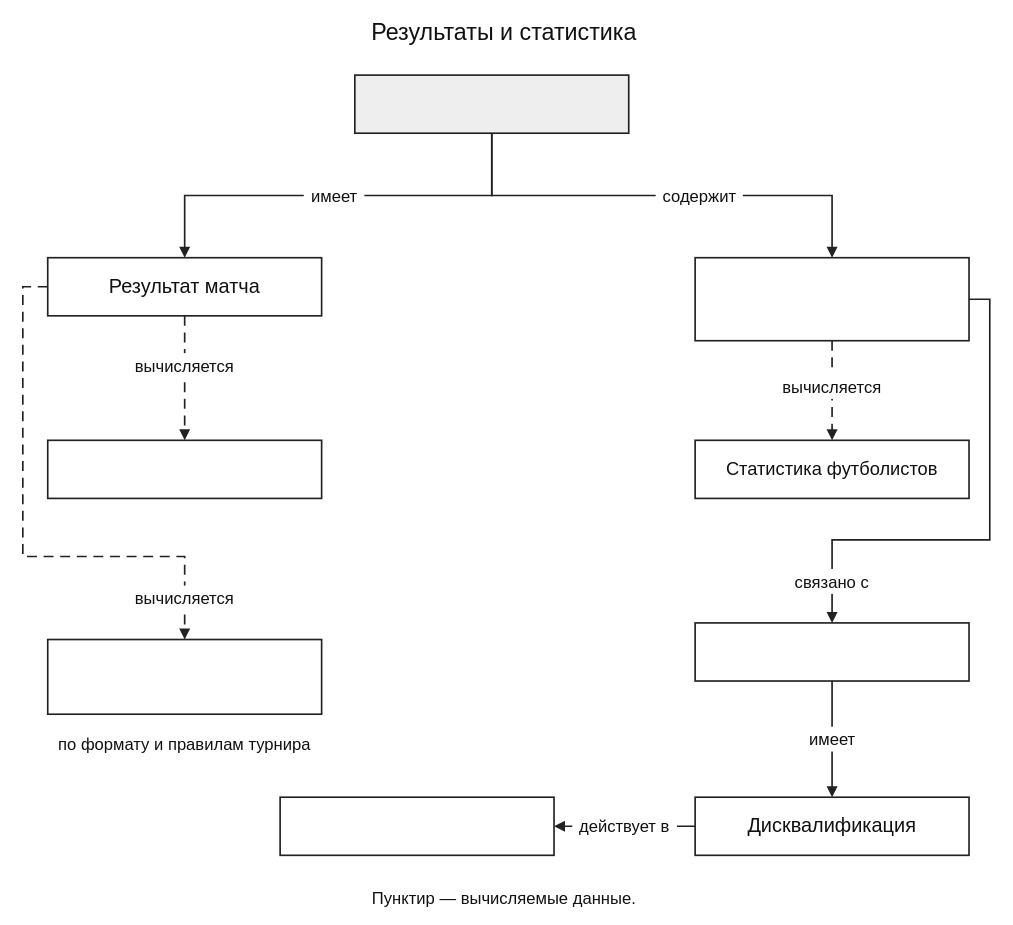
Some shapes in this 1013 by 925 pixel diagram are drawn without their labels. The box of each missing label's shape, as (x1, y1, x2, y2) in pixels:
Игровое событие Гол, предупреждение, удаление: (694, 256, 969, 341)
Матч: (354, 74, 629, 134)
Статистика команд: (46, 439, 322, 499)
Турнир: (279, 796, 554, 856)
Турнирная таблица / кубковая сетка: (46, 638, 322, 715)
Футболист: (694, 622, 969, 681)
